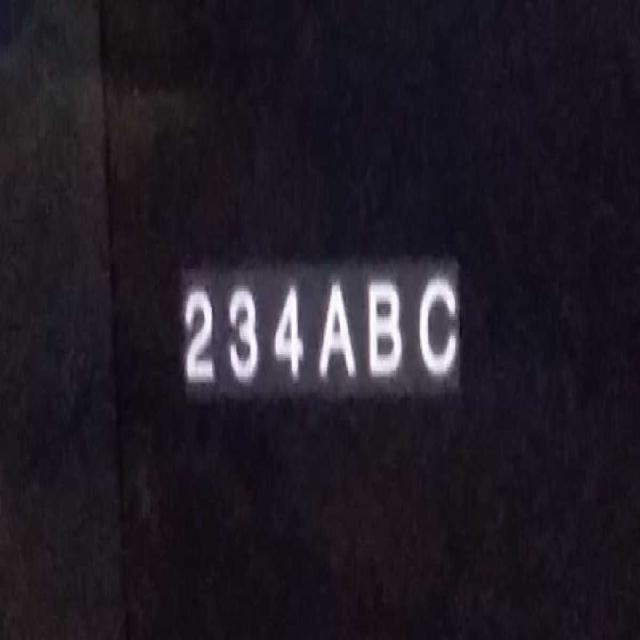license_plate: (167, 234, 473, 395)
